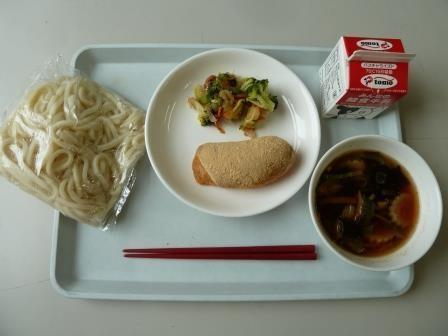Bread: (186, 125, 301, 192)
Milk: (318, 30, 410, 124)
Salad: (190, 68, 297, 130)
Soups: (308, 138, 443, 271)
Udon: (1, 64, 140, 227)
